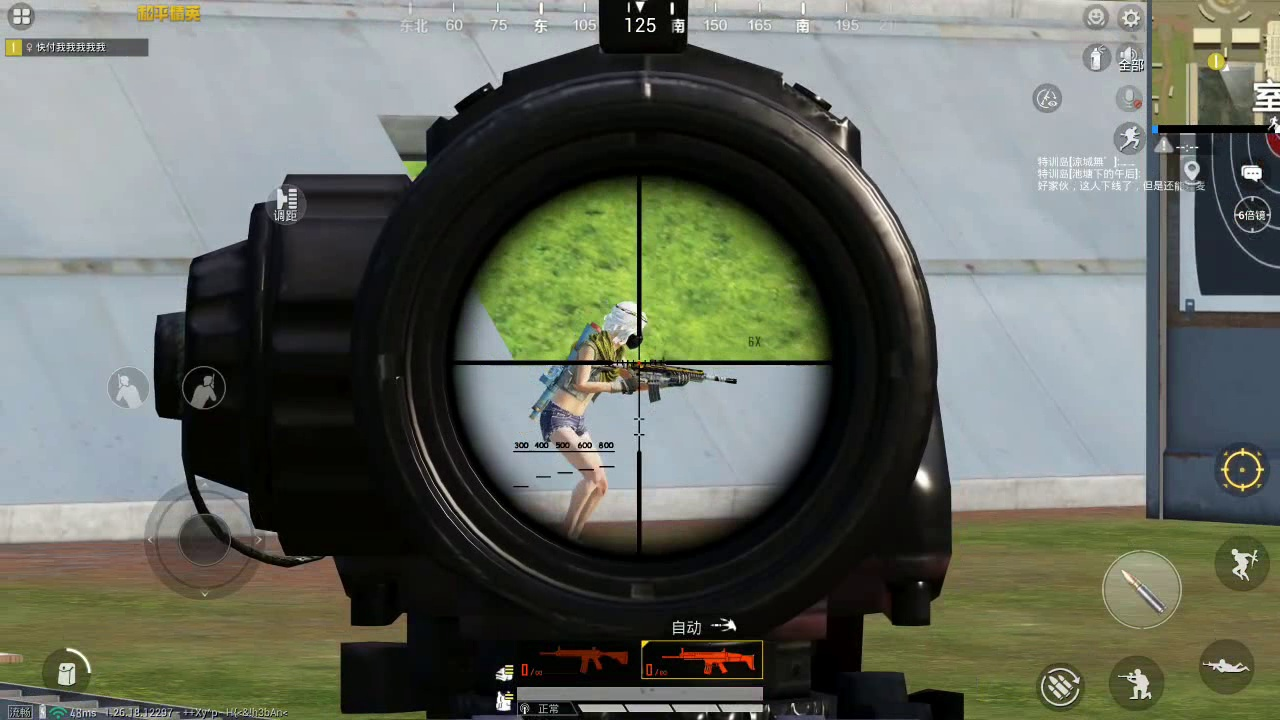enemy: (541, 301, 643, 541)
